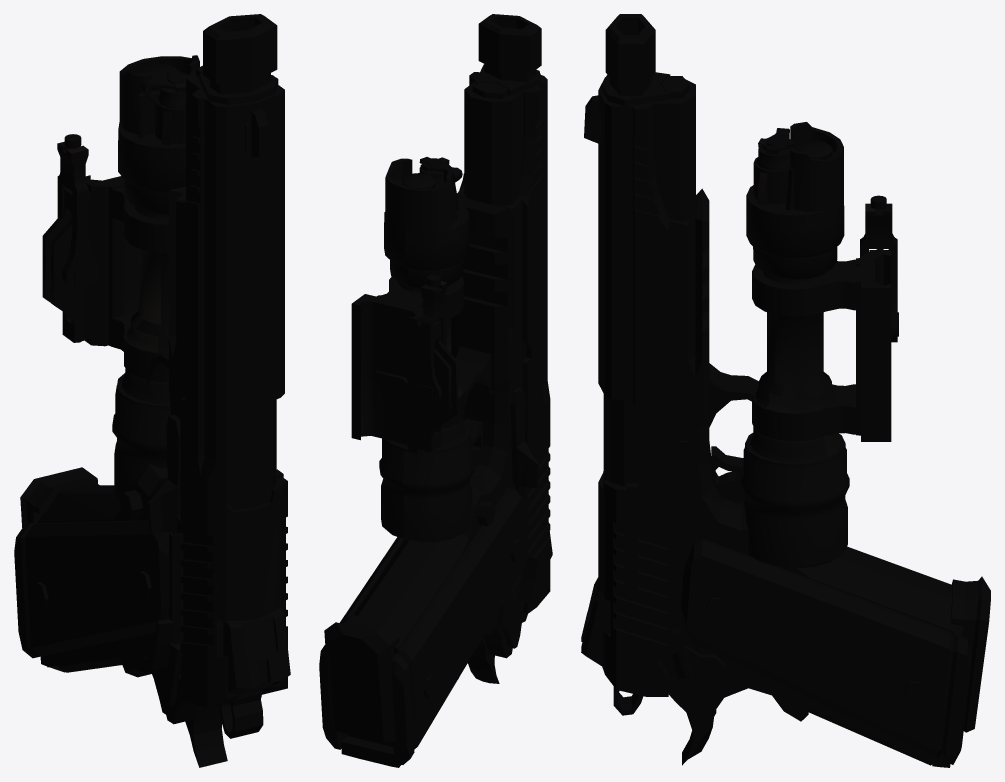
File: M45A1__Light_Weapon.fbx
3 renders of one model, left to right at view 1: azimuth 30°, elevation 25°; view 2: azimuth 150°, elevation 25°; view 3: azimuth 270°, elevation 25°, orthographic. The views are drawn at different scales.
Visible parts, largest first — view 1: asset_M45A1.001; view 2: asset_M45A1.001; view 3: asset_M45A1.001.
Part boxes in pixels (x1=…): asset_M45A1.001: x1=14, y1=14, x2=290, y2=767; asset_M45A1.001: x1=319, y1=14, x2=552, y2=767; asset_M45A1.001: x1=581, y1=14, x2=990, y2=767.
Size of the model in its own units: 0.0229 by 0.1332 by 0.0675.
